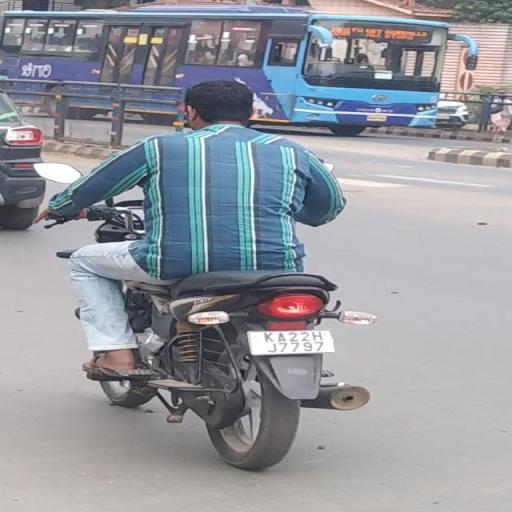bike: (35, 79, 384, 469)
numberplate: (252, 330, 334, 356)
withouthelmet: (188, 82, 253, 124)
